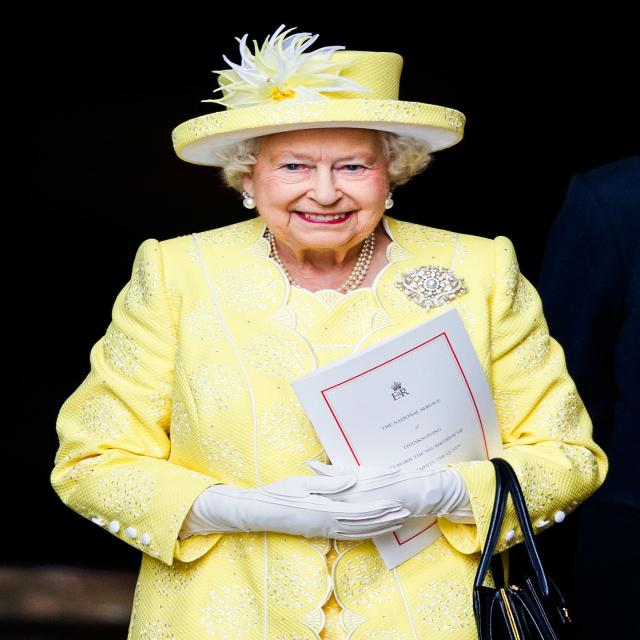hat: (170, 48, 468, 254)
